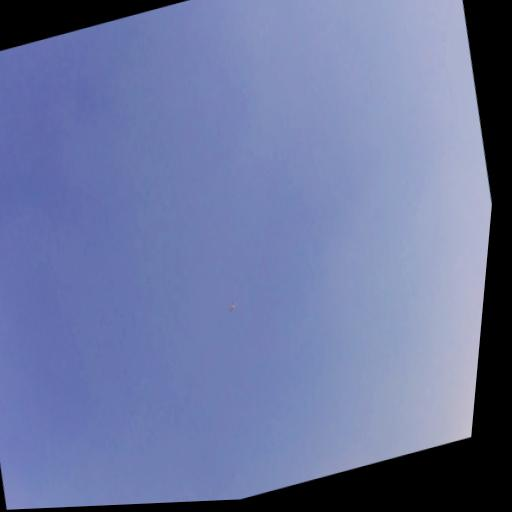drones: (225, 299, 239, 315)
